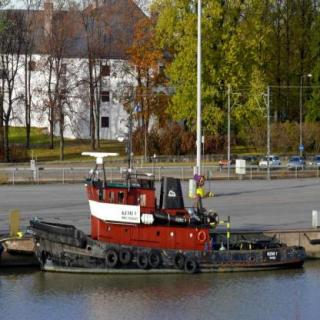Tug Boat: (21, 152, 307, 273)
